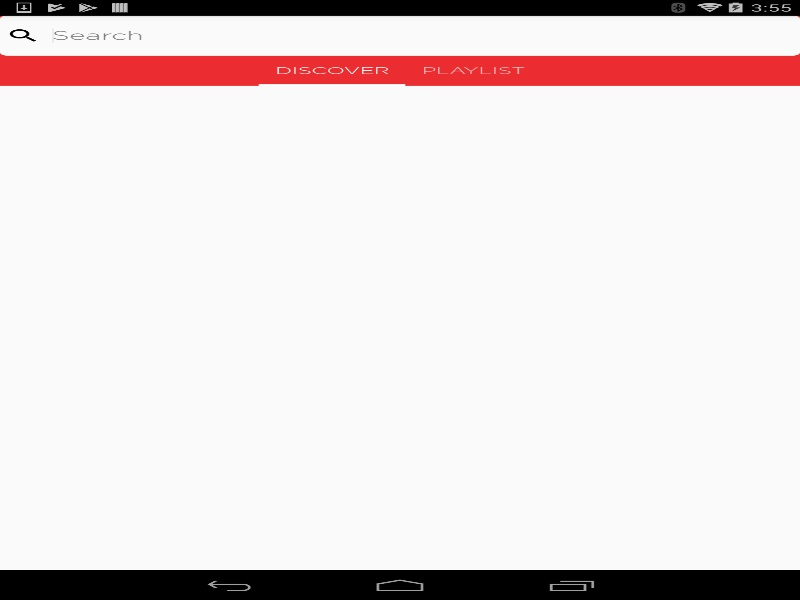Input: (0, 19, 800, 51)
